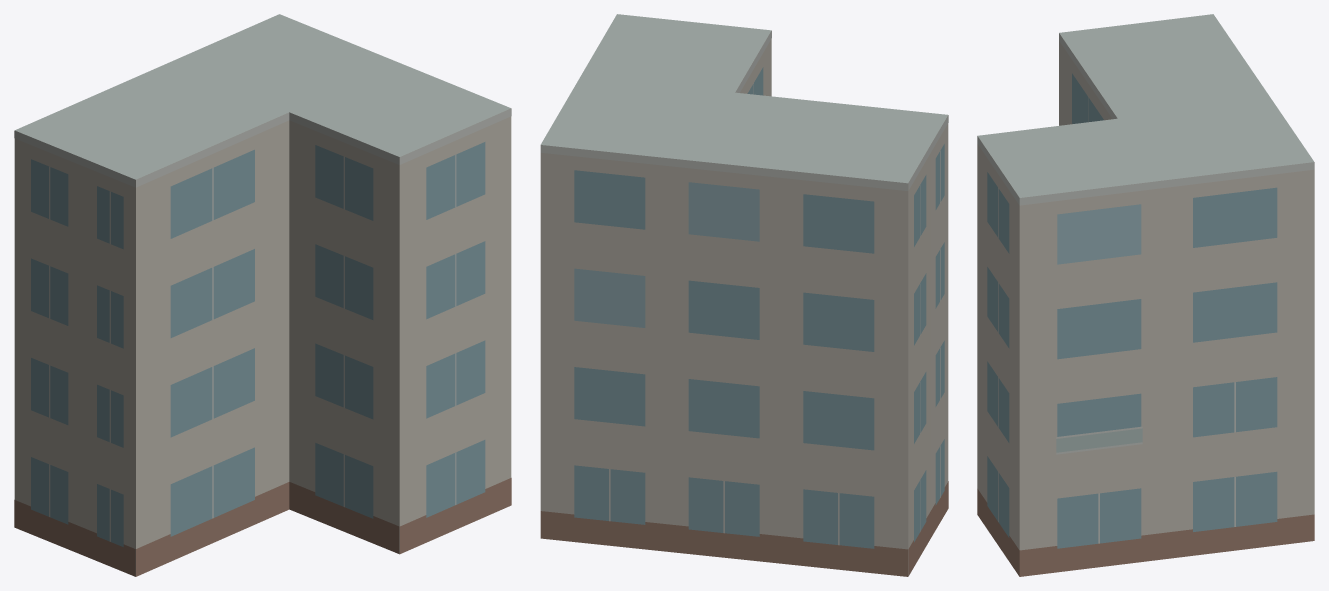
File: residential-f7fe1520-08e2-4c82-86e8-e825cfcc4c7a.glb
3 views of the same model, side by side, from view 1: azimuth 30°, elevation 25°; view 2: azimuth 150°, elevation 25°; view 3: azimuth 270°, elevation 25° (orthographic). The views are drawn at different scales.
Parts seen in each view (by area): view 1: residential-f7fe1520-08e2-4c82-86e8-e825cfcc4c7a.tmp; view 2: residential-f7fe1520-08e2-4c82-86e8-e825cfcc4c7a.tmp; view 3: residential-f7fe1520-08e2-4c82-86e8-e825cfcc4c7a.tmp.
Boxes of the visible parts, x1,y1,x2,y2 form: residential-f7fe1520-08e2-4c82-86e8-e825cfcc4c7a.tmp: (14,14,511,576); residential-f7fe1520-08e2-4c82-86e8-e825cfcc4c7a.tmp: (540,14,948,576); residential-f7fe1520-08e2-4c82-86e8-e825cfcc4c7a.tmp: (977,14,1314,576).
Size of the model in its own units: 12.72 by 12.2 by 9.85.
